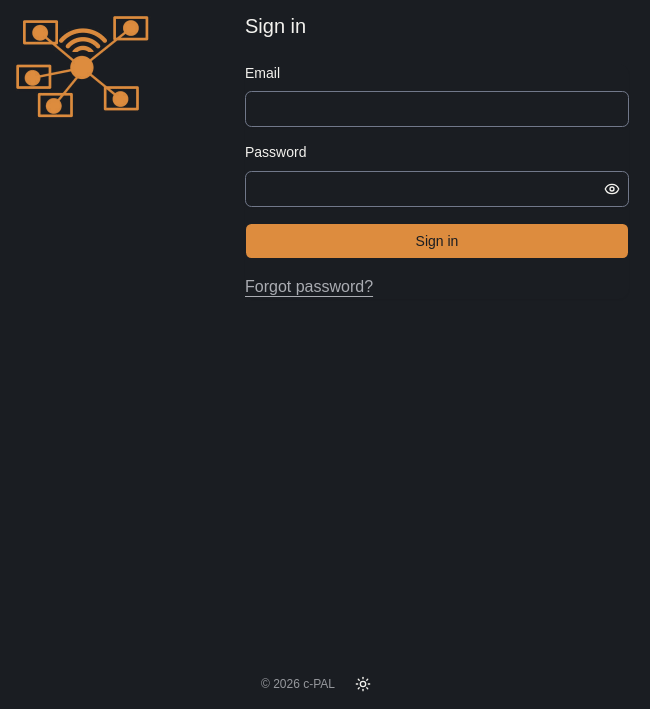
Test: Login › shows the per-IP throttle copy, with no borrowed minutes countdown, on a 429 rate_limited response (FR7)
In the field labelled "Email": (437, 109) [245,91,629,127], type "demo@cpal.test"
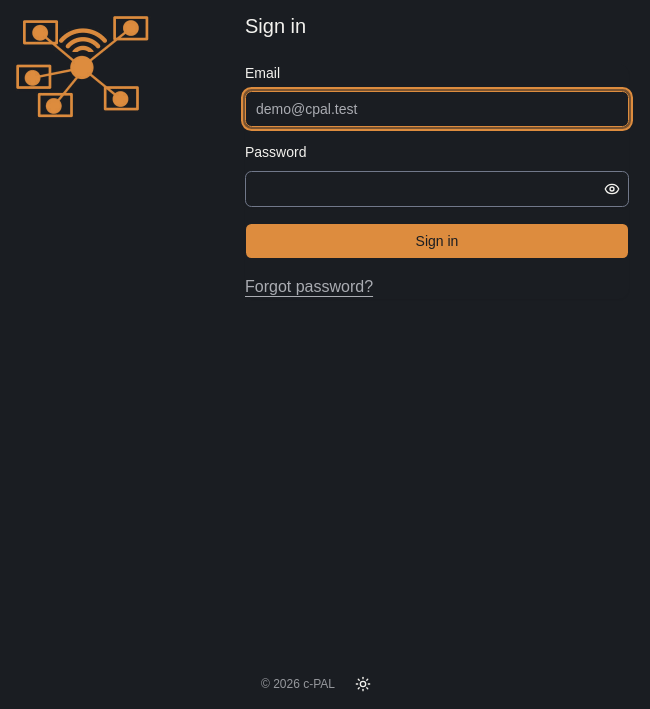
In the password field labelled "Password": (423, 188) [246,170,600,206], type "anything"
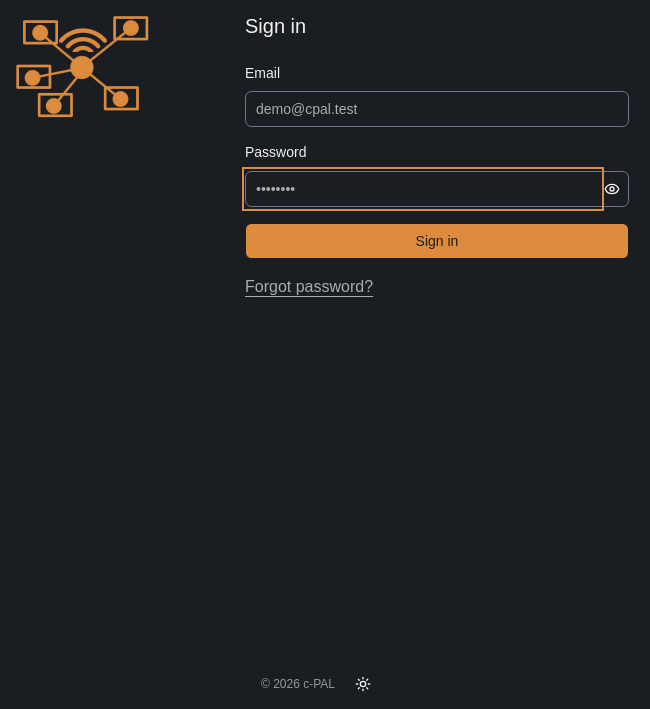
Click the button with test id "login-submit": (437, 240) [245,222,629,258]
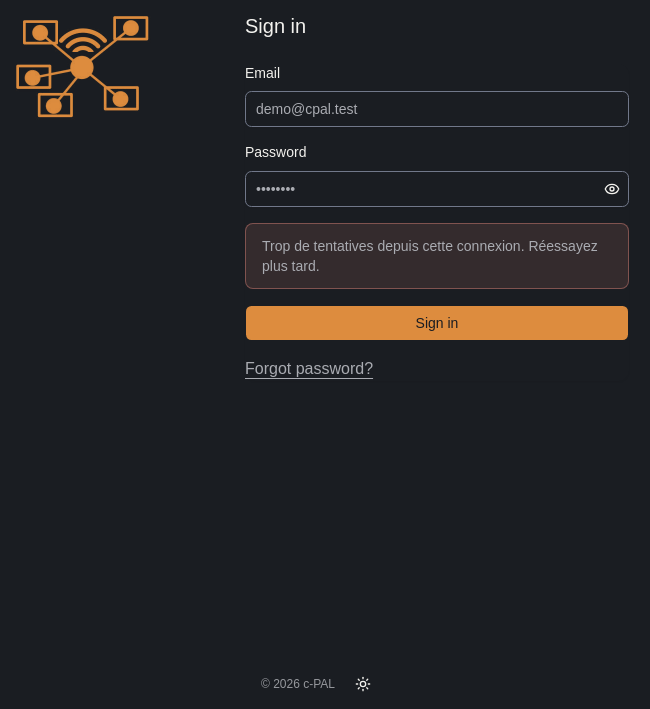
Now the message with test id "login-error" reads "Trop de tentatives depuis cette connexion. Réessayez plus tard.", box [262,238,598,274]
